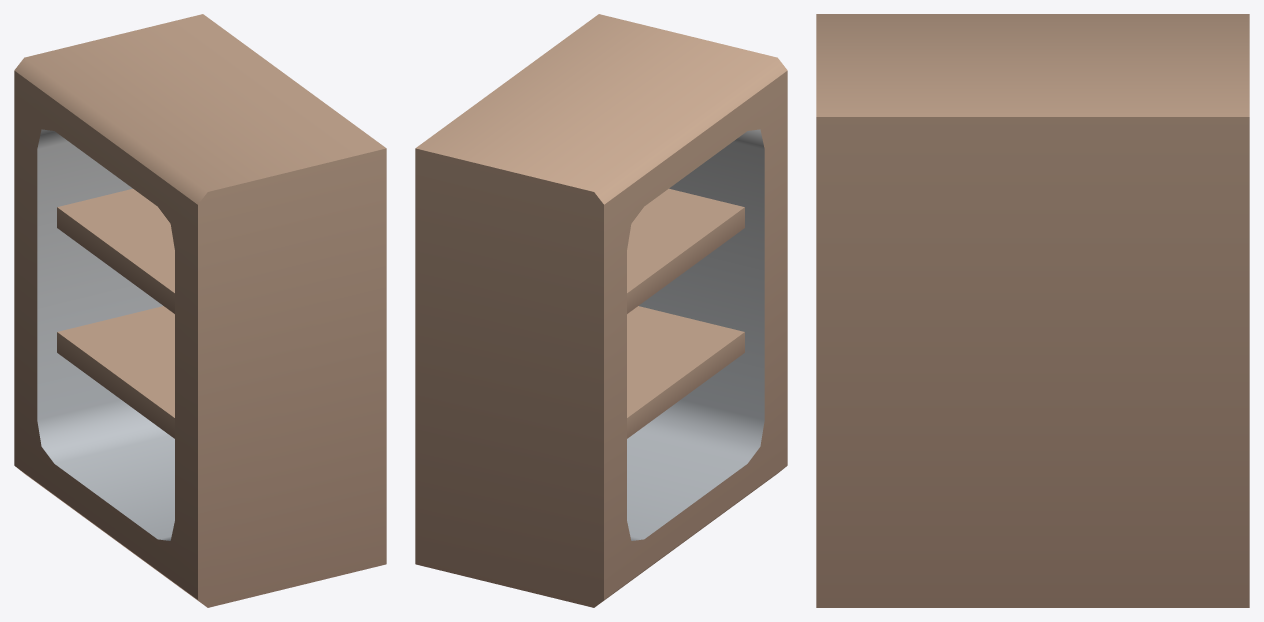
Rendered from cabinet-basic-upper-open-narrow (%wall).glb.
3 views of the same model, side by side, from view 1: azimuth 30°, elevation 25°; view 2: azimuth 150°, elevation 25°; view 3: azimuth 270°, elevation 25° (orthographic). The views are drawn at different scales.
Parts seen in each view (by area): view 1: cabinet-basic-upper-open-narrow (%wall); view 2: cabinet-basic-upper-open-narrow (%wall); view 3: cabinet-basic-upper-open-narrow (%wall).
Part boxes in pixels (box(x1,y1,x2,y2)): cabinet-basic-upper-open-narrow (%wall): box(14, 14, 386, 607); cabinet-basic-upper-open-narrow (%wall): box(415, 14, 787, 607); cabinet-basic-upper-open-narrow (%wall): box(816, 14, 1249, 607).
Bounding box in the file's own units: 0.2375 × 0.5 × 0.4.
